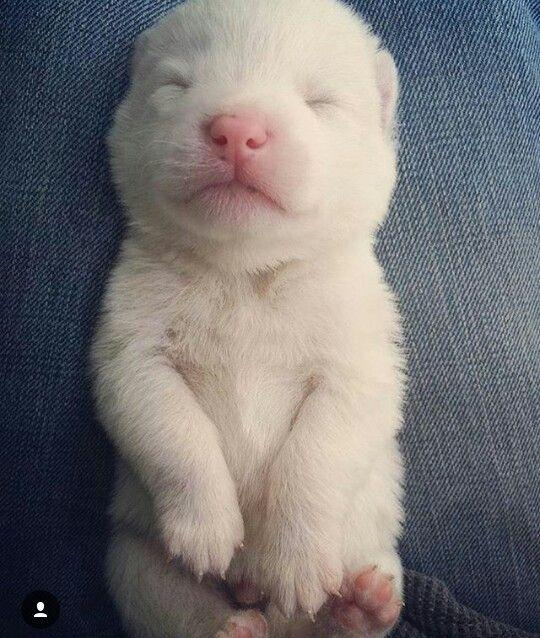puppy-dog: (83, 1, 416, 637)
